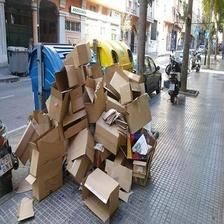box: (104, 91, 153, 135), (82, 168, 120, 222), (25, 164, 64, 200), (29, 141, 66, 178), (93, 109, 121, 155), (15, 120, 41, 166), (65, 126, 96, 164), (83, 78, 105, 124), (48, 82, 70, 124), (61, 108, 88, 140), (55, 64, 79, 91), (17, 196, 35, 224)
